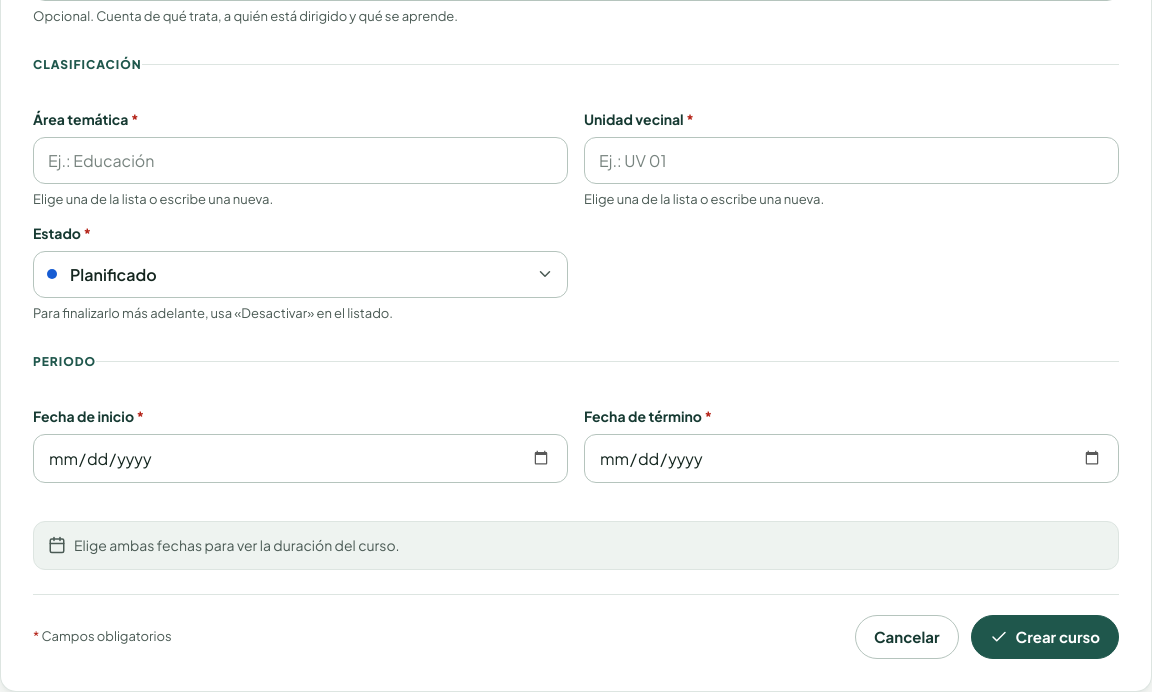
Test: CursoForm › rechaza una fecha de término anterior a la de inicio
(page scrolled)
Type "2026-06-30" into the date field labelled "Fecha de inicio *". click: (300, 458)
box: x1=33 y1=434 x2=568 y2=483
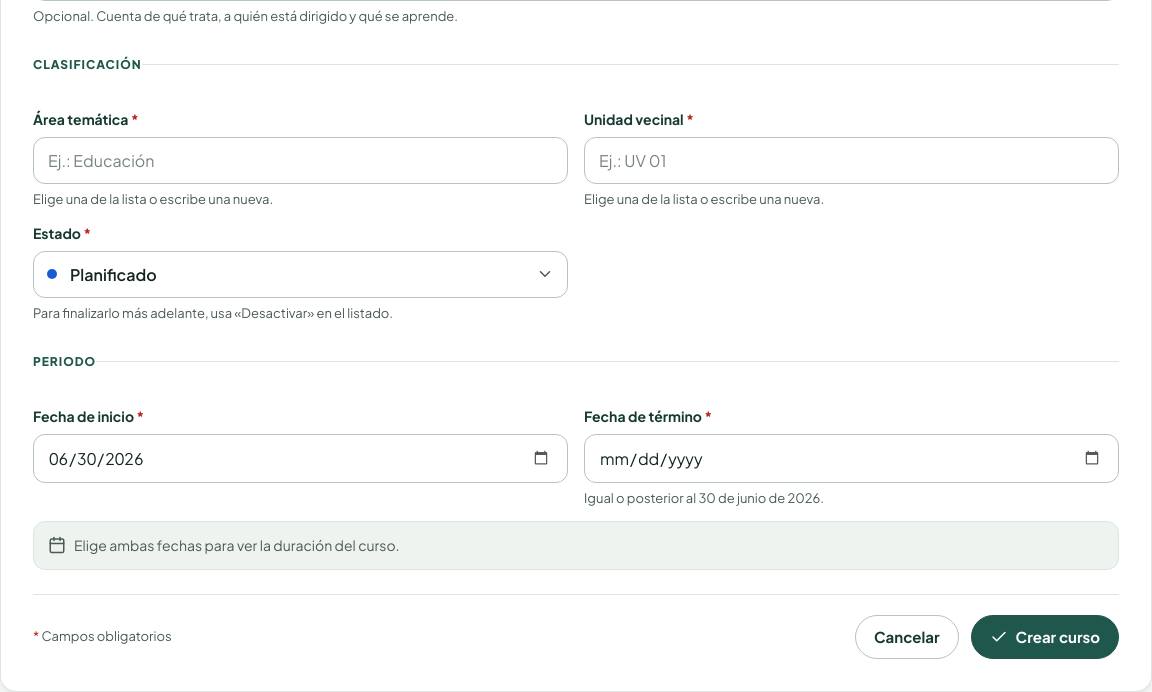
Type "2026-02-01" into the date field labelled "Fecha de término *". click: (852, 458)
box: x1=584 y1=434 x2=1119 y2=483
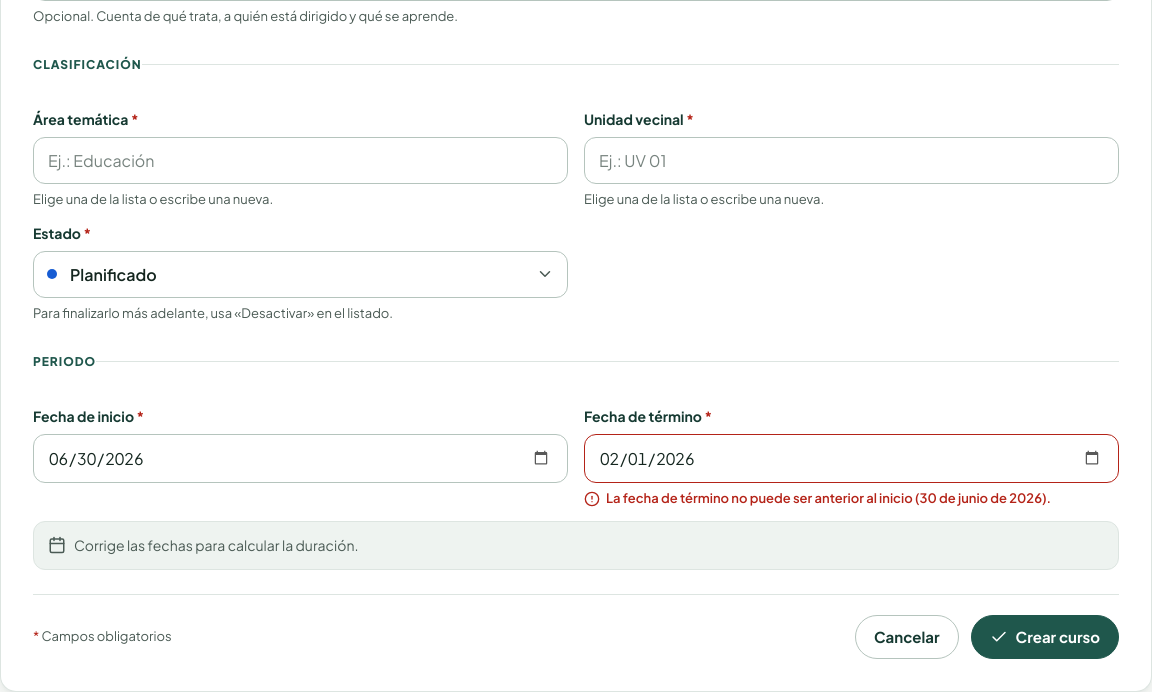
Check: the text "no puede ser anterior al inicio (30 de junio de 2026)" is shown, box x1=606 y1=490 x2=1051 y2=506
